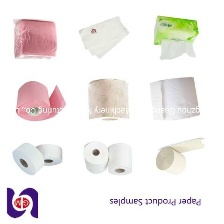tissue: (145, 74, 205, 127), (149, 11, 206, 66), (74, 13, 134, 64), (11, 77, 72, 127), (151, 133, 209, 180), (83, 75, 134, 128), (9, 15, 61, 65), (9, 138, 47, 178), (80, 138, 113, 177), (105, 140, 135, 178), (31, 141, 67, 168)
